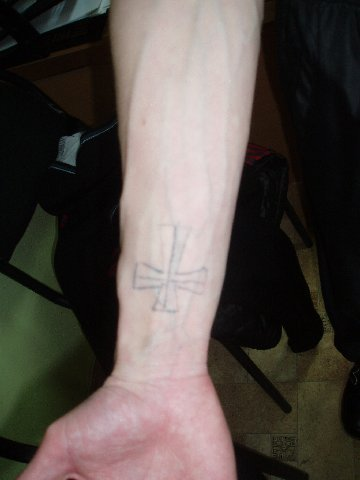tatu9_krest: (134, 212, 205, 330)
